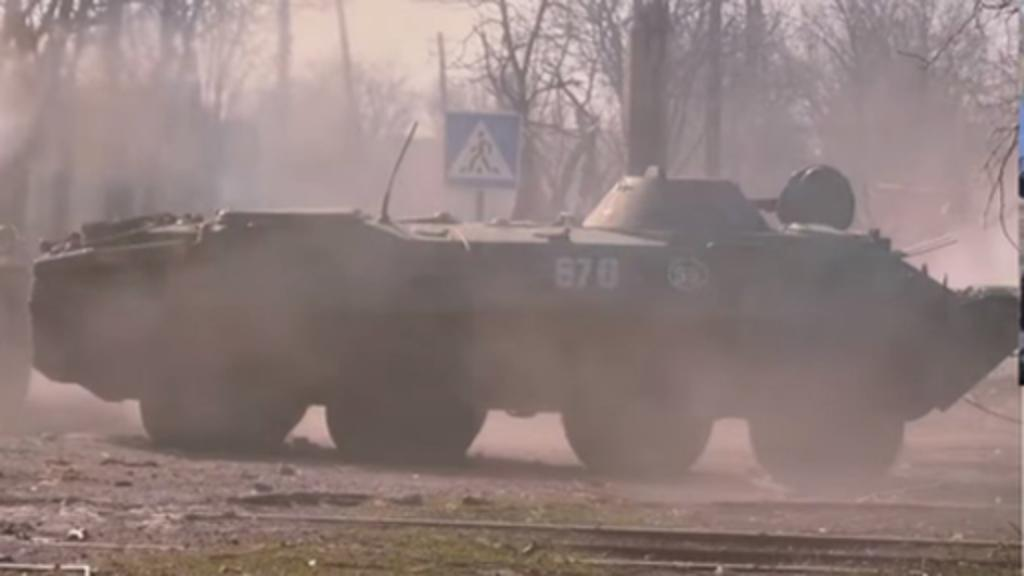APC-IFV: (24, 158, 1016, 466)
